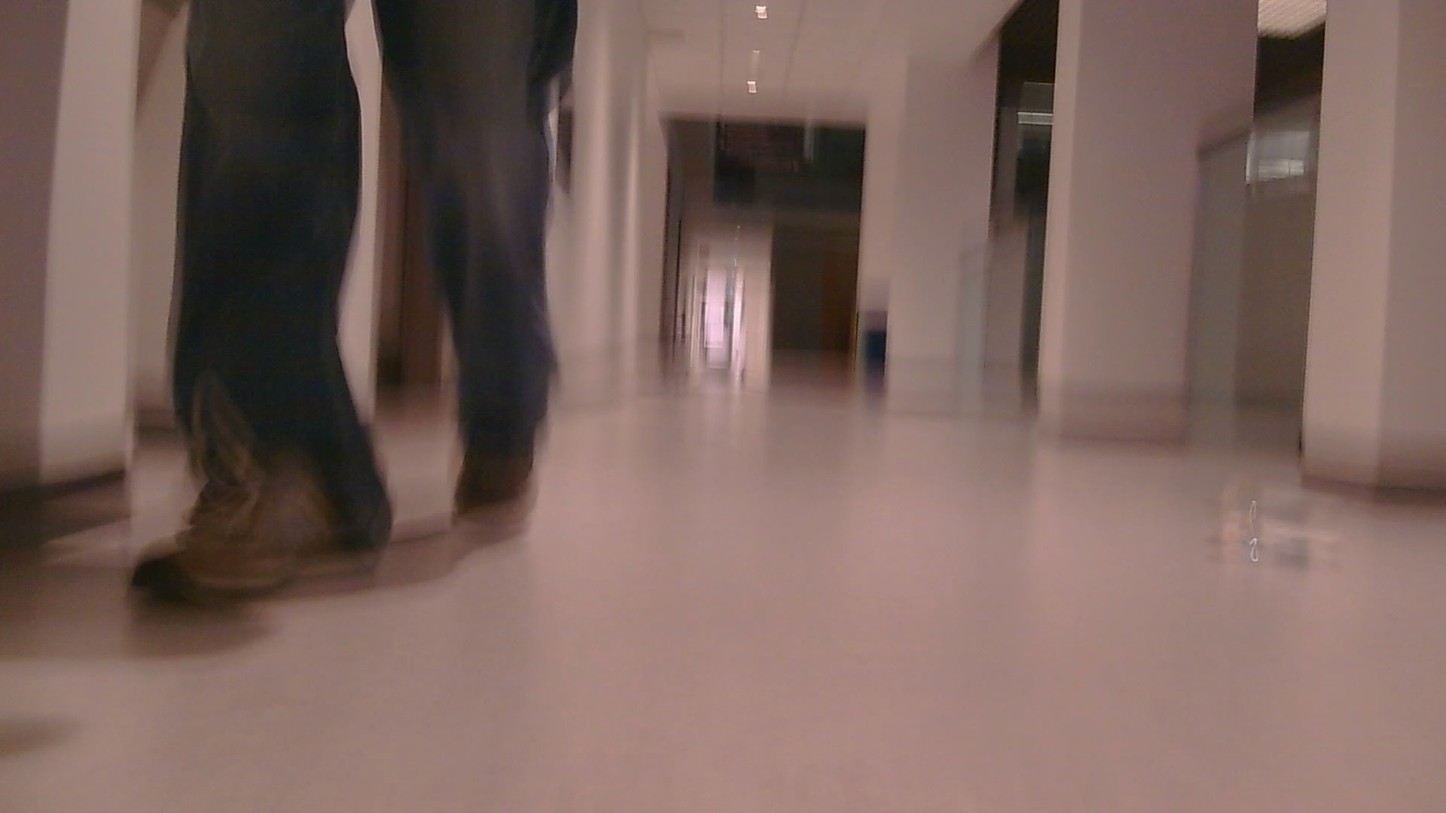carton: (1207, 497, 1366, 577)
